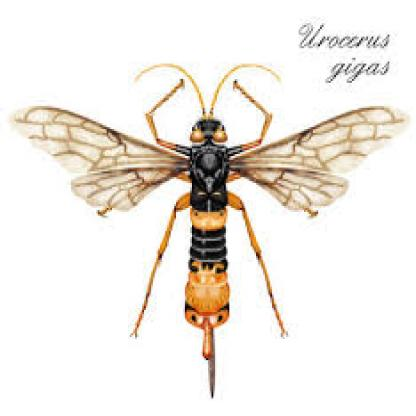sawfly: (22, 58, 412, 403)
